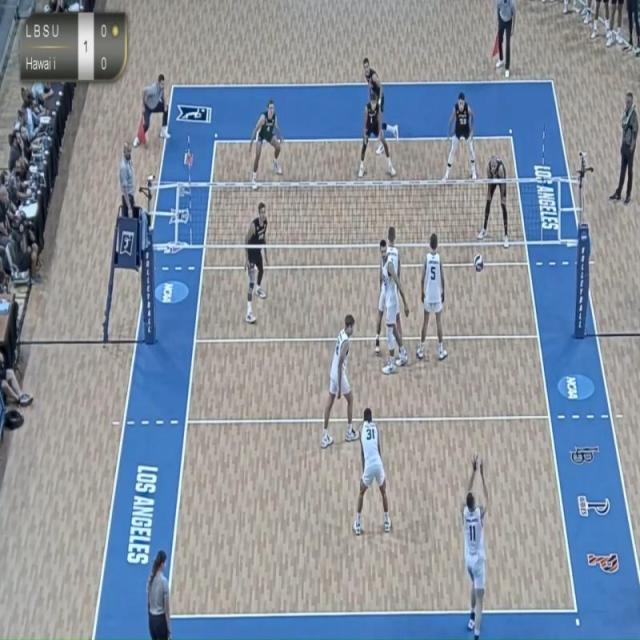volleyball: (472, 250, 485, 276)
